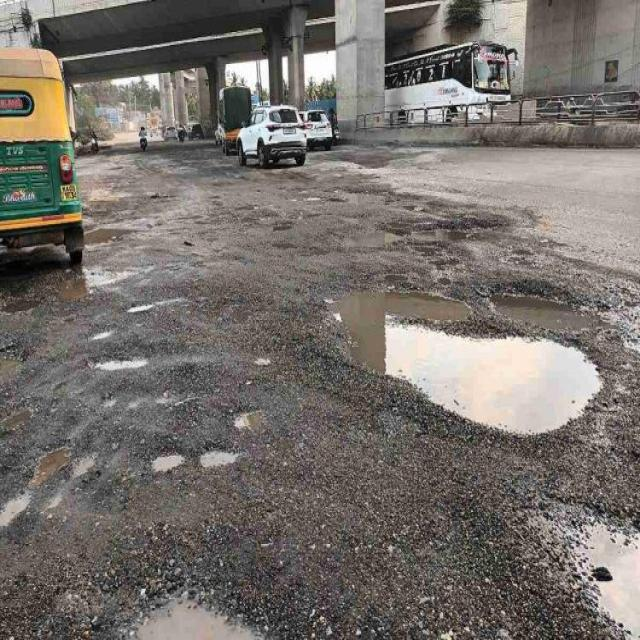Pothole: (342, 294, 606, 438), (492, 298, 581, 332)
